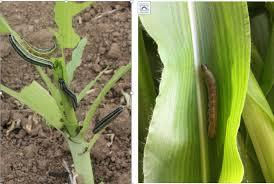fallarmy_worm: (195, 61, 220, 137), (7, 34, 59, 70), (91, 105, 125, 137), (55, 77, 80, 114)
